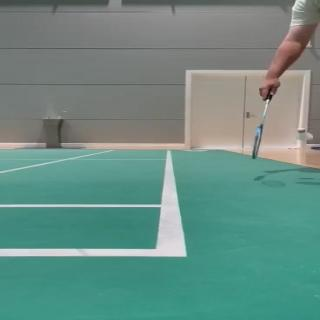Shuttle: (296, 128, 314, 141)
